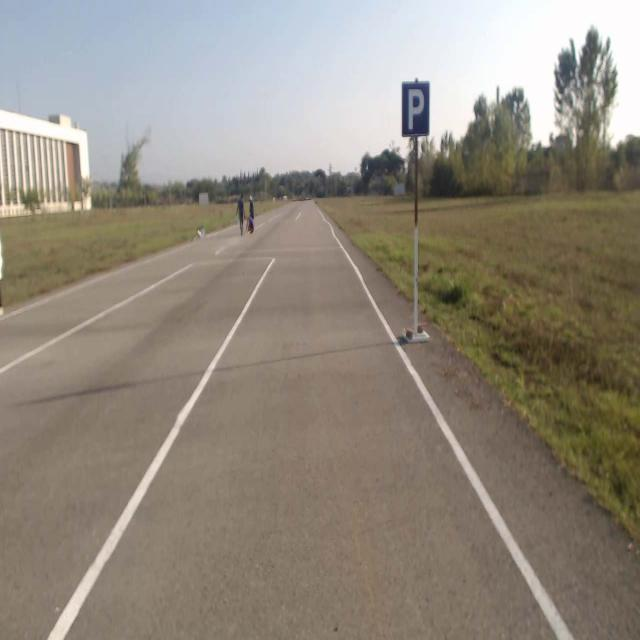park: (402, 82, 428, 134)
